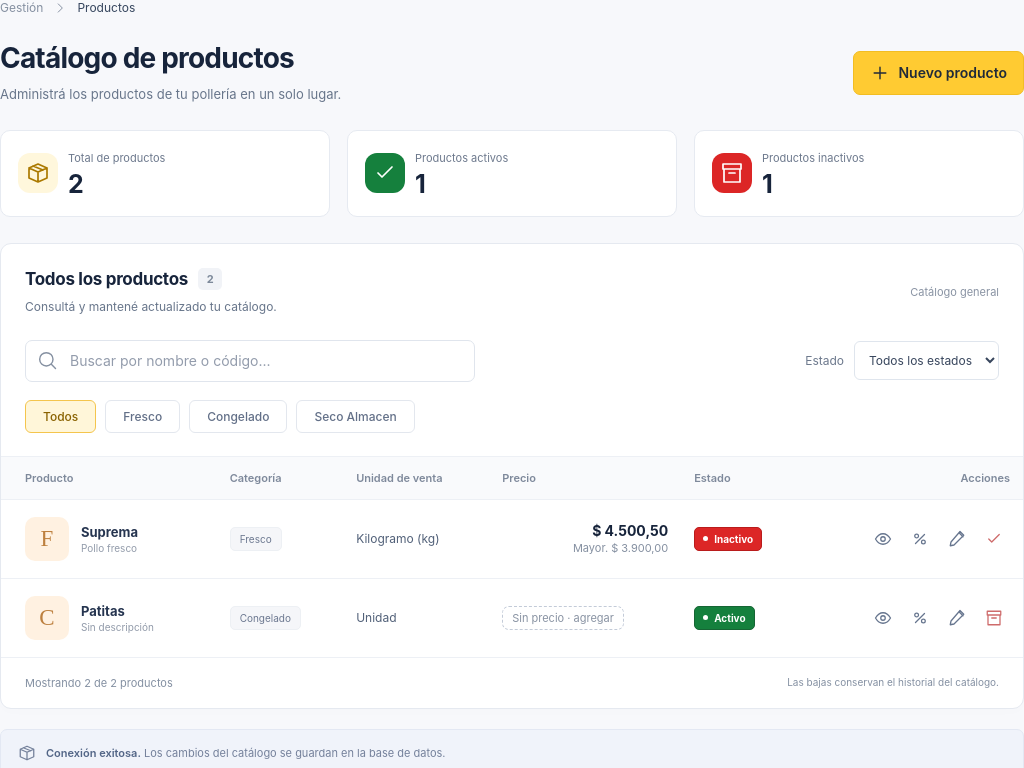
Test case: Catálogo de productos conectado a la API › reactiva un producto inactivo usando el endpoint existente
Click the button named "Reactivar Suprema".
click(994, 539)  # box [978,523,1010,555]
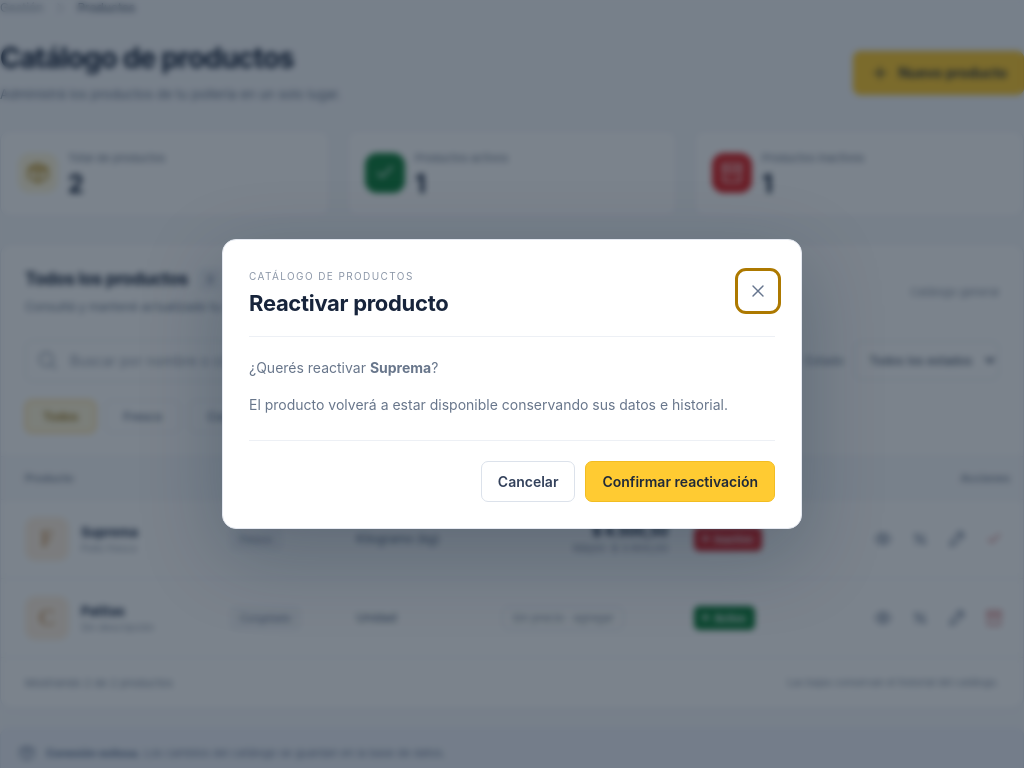
Click the button "Confirmar reactivación".
click(680, 481)  # box [586,461,775,502]
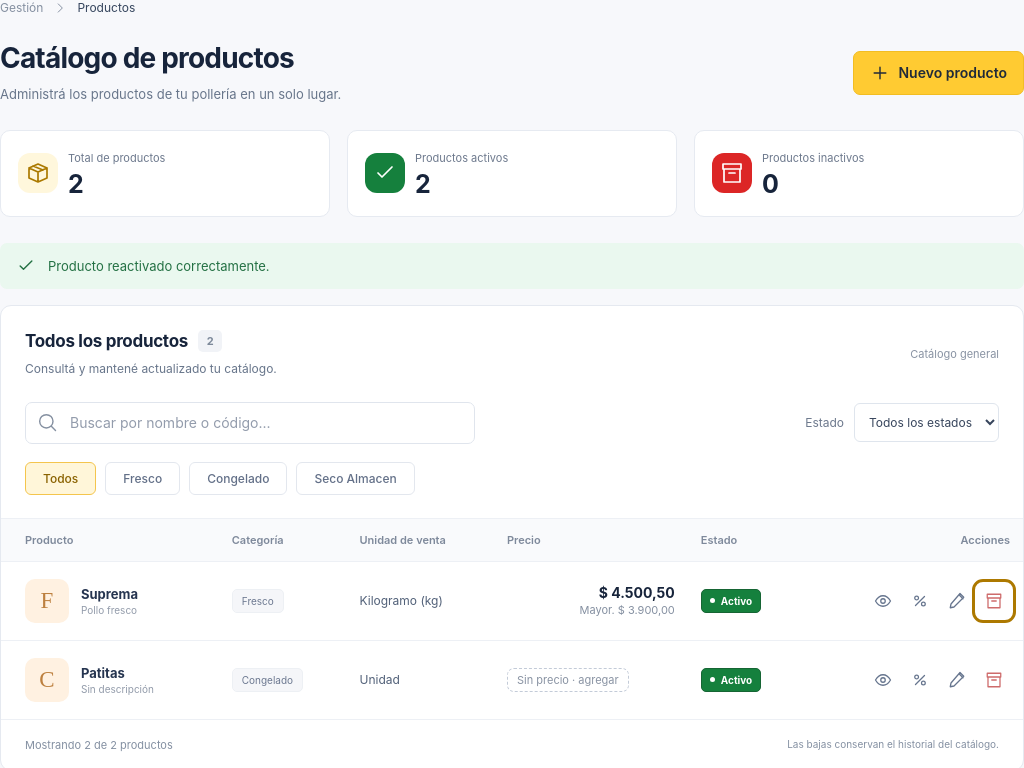
Expected: the text "Producto reactivado correctamente." is shown, [0,243,1023,289]
Expected: the button named "Dar de baja Suprema" is shown, [978,585,1010,617]
